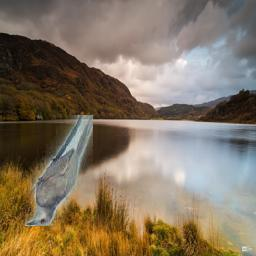Cuckoo: (25, 116, 93, 227)
